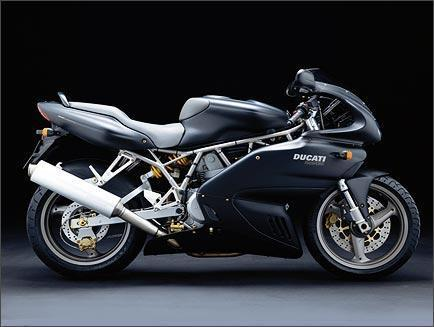motorcycle: (4, 55, 434, 295)
